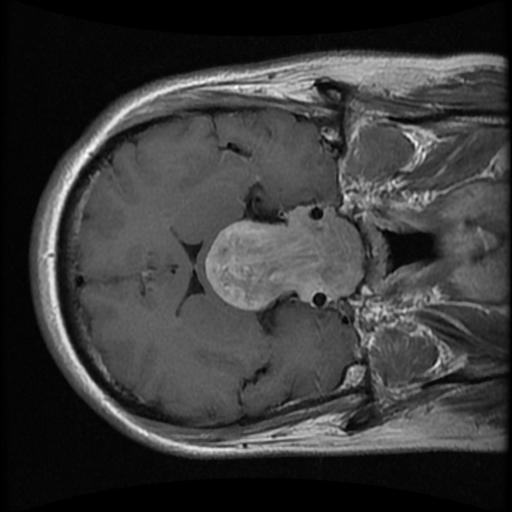pituitary tumour: (204, 210, 364, 310)
